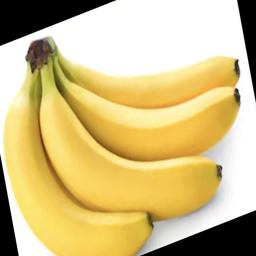Banana Fresh: (3, 22, 251, 254)
